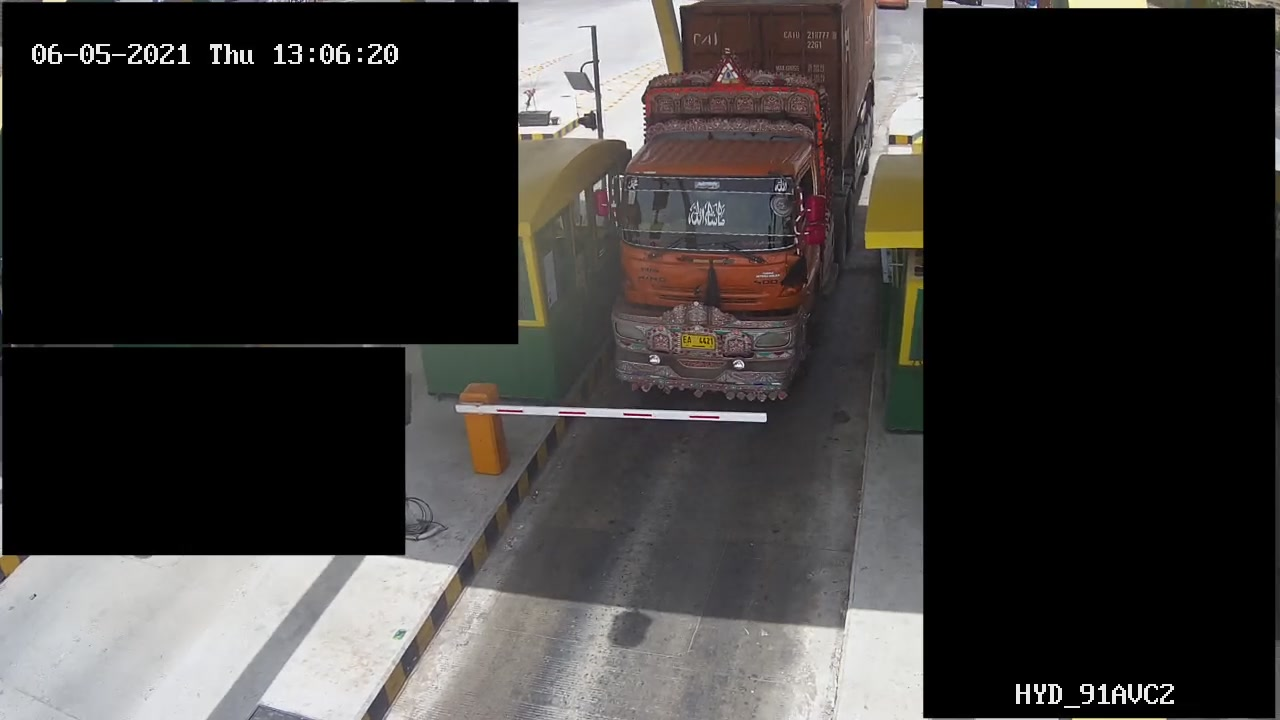F6: (606, 1, 884, 402)
